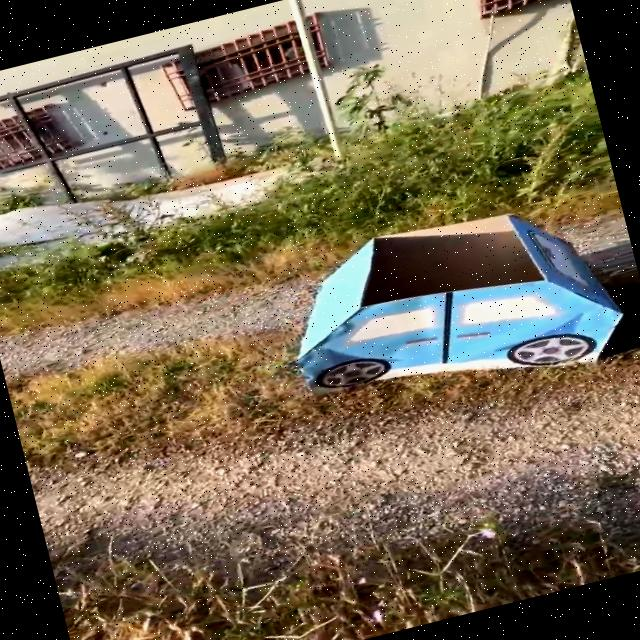blue_car: (239, 152, 640, 454)
